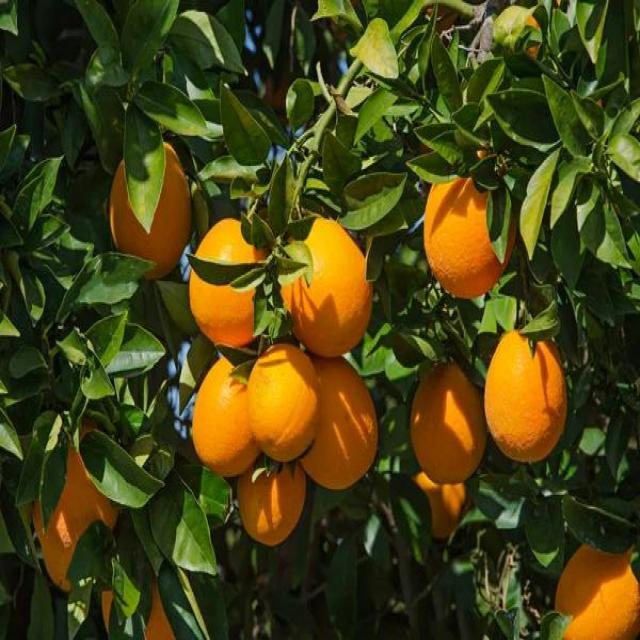Jeruk Sudah Matang: (35, 422, 123, 594), (273, 212, 372, 356), (426, 144, 514, 300), (286, 354, 381, 492), (483, 324, 571, 466), (190, 214, 280, 347), (113, 138, 190, 278), (554, 529, 640, 640), (412, 358, 485, 488), (101, 538, 194, 640), (191, 353, 266, 478), (248, 344, 322, 465), (235, 436, 308, 548), (410, 470, 468, 542)
